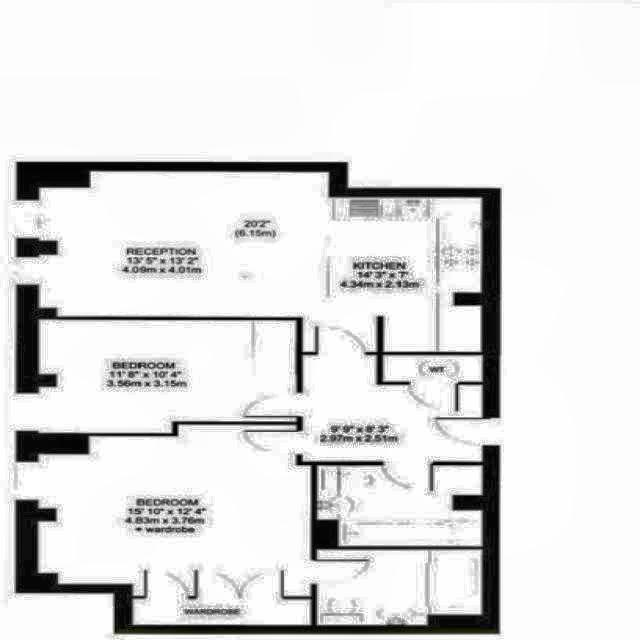room: (38, 172, 482, 353), (38, 424, 312, 597), (38, 319, 297, 434), (301, 355, 483, 462), (317, 465, 482, 547), (316, 549, 483, 627), (132, 599, 311, 625), (383, 355, 483, 382)
